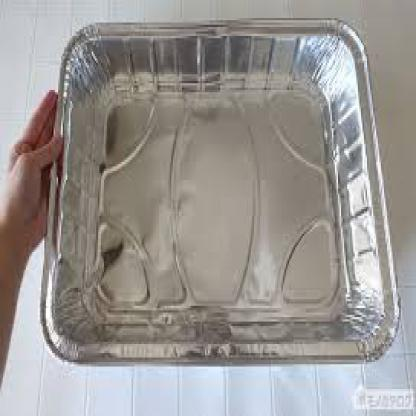METAL: (40, 20, 400, 362)
